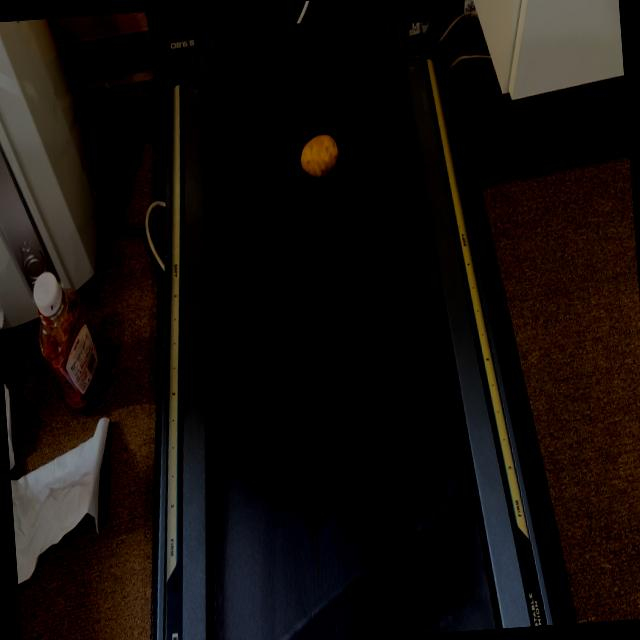Trash: (298, 134, 342, 178)
